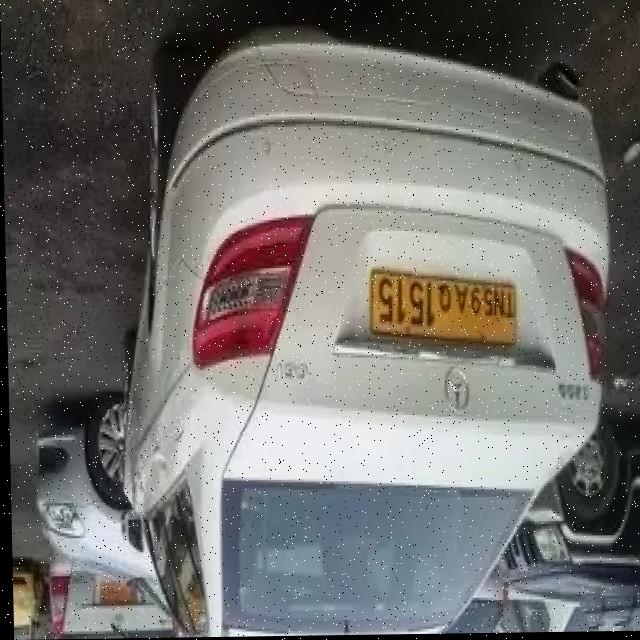plate: (362, 261, 524, 358), (95, 580, 134, 607)
